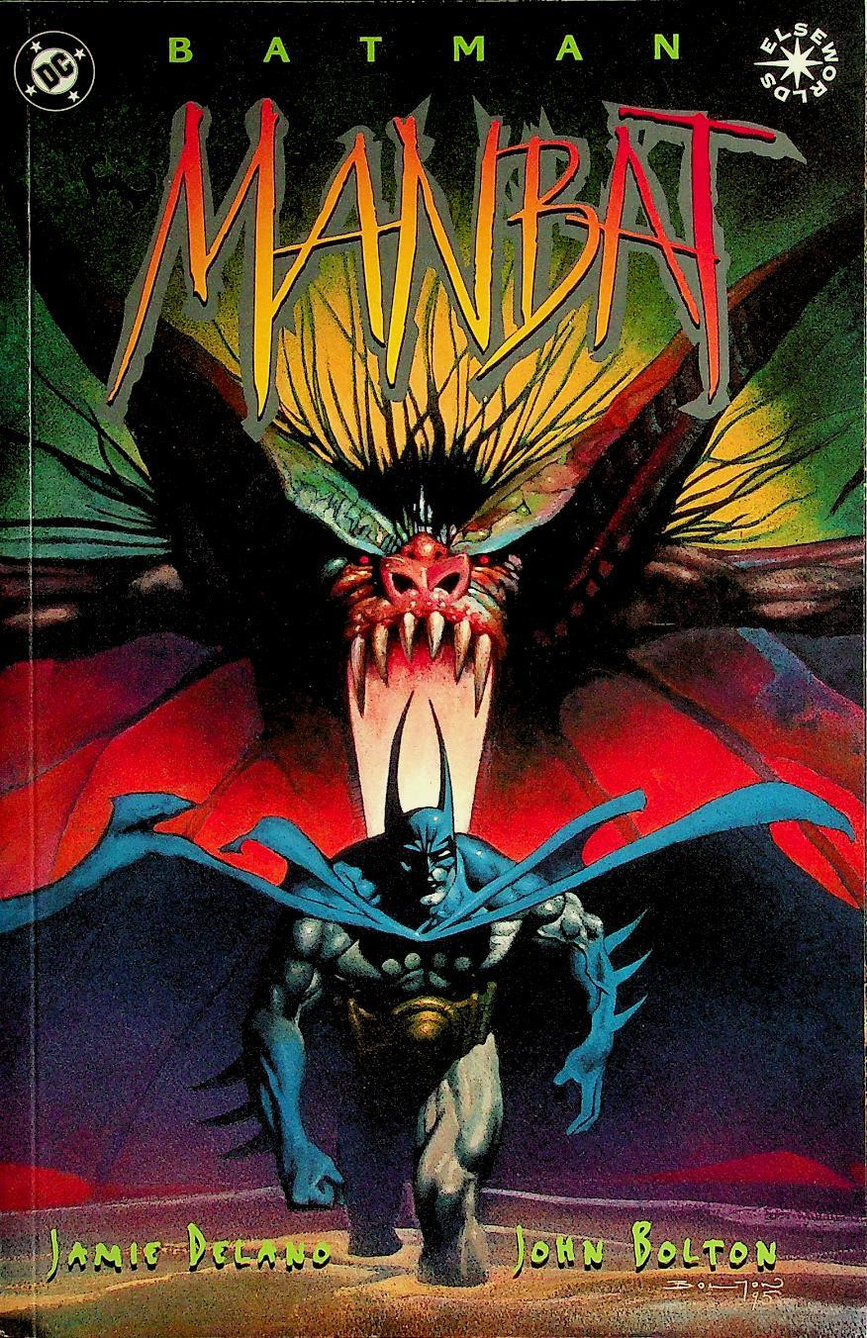comic: (0, 0, 863, 1337)
